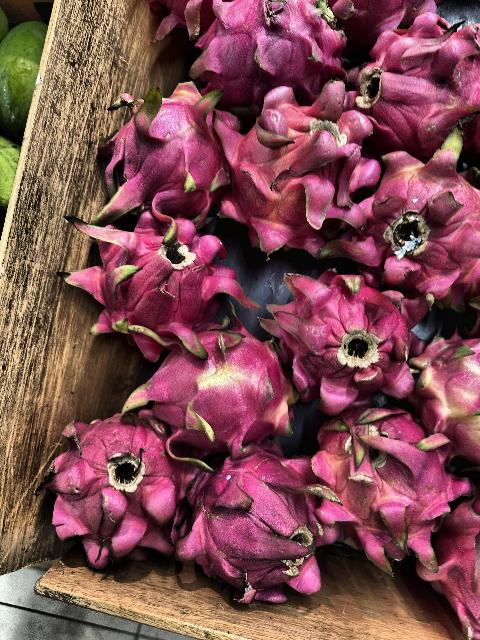buah-naga-belum-matang: (137, 330, 295, 446), (412, 331, 480, 459)
buah-naga-matang: (214, 77, 364, 255), (346, 126, 480, 302), (183, 441, 324, 605), (61, 206, 236, 336), (316, 404, 460, 560), (260, 258, 416, 399), (46, 414, 180, 564), (106, 78, 234, 226), (354, 18, 480, 154), (193, 0, 351, 96), (432, 490, 480, 630)
